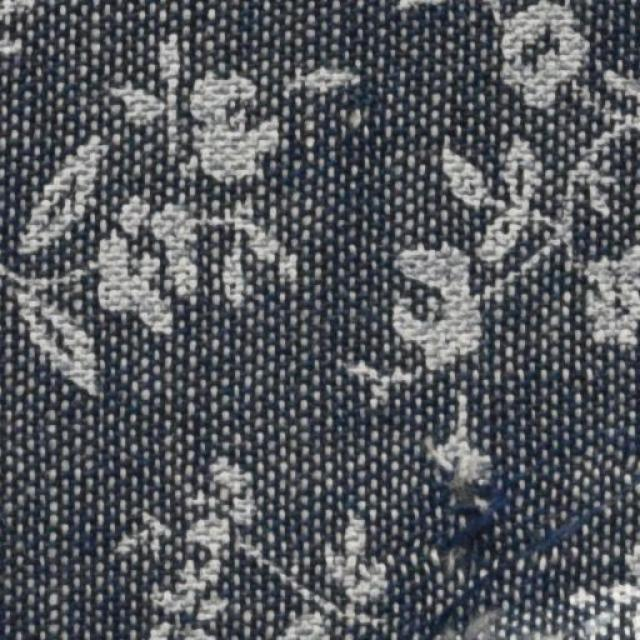Snag: (429, 438, 524, 551)
